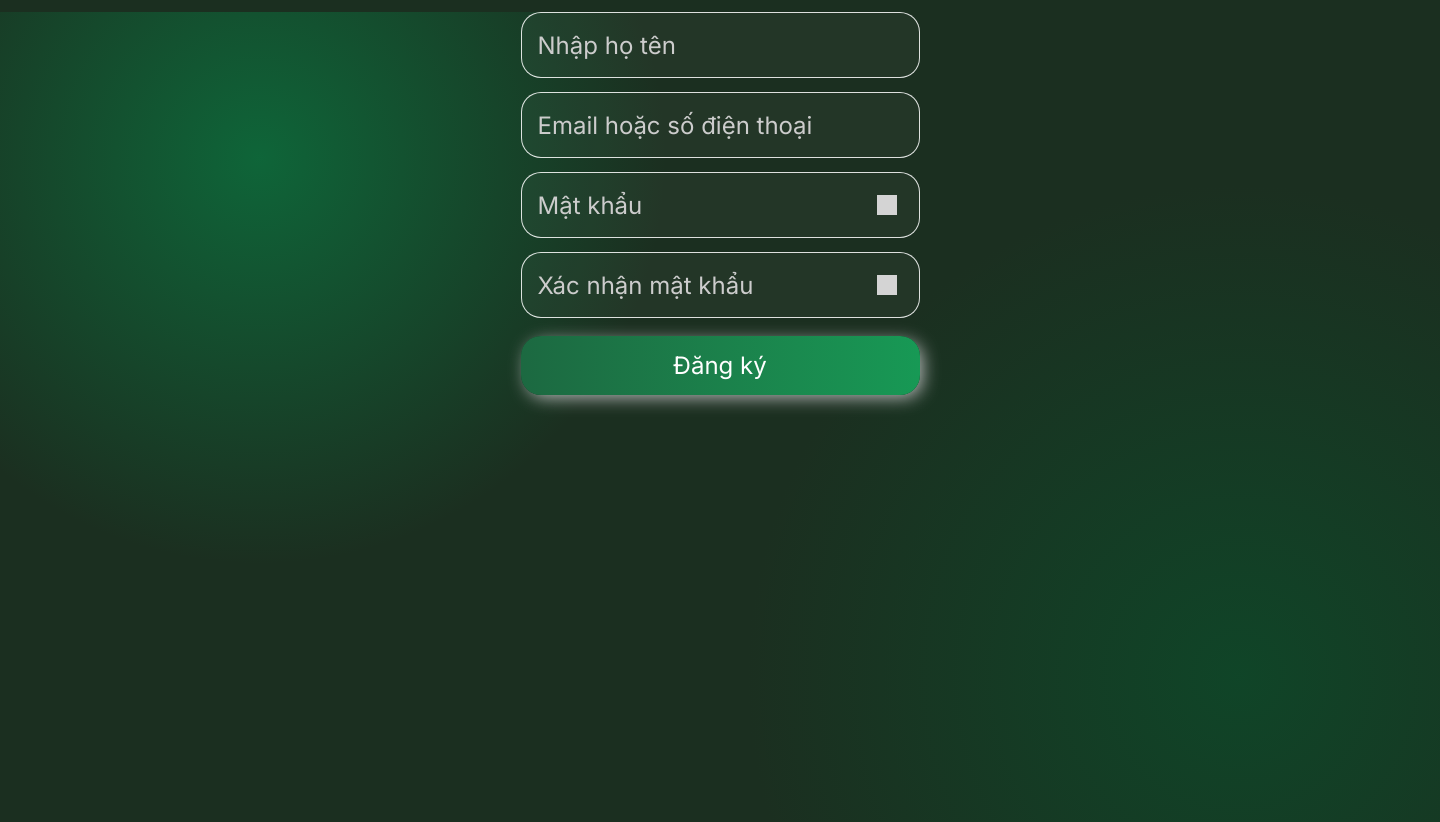
Test: RegisterForm › shows error when passwords don't match
Type "Nguyen Van A" into the field with placeholder "Nhập họ tên" at coordinates (720, 45), box [538,13,902,77]
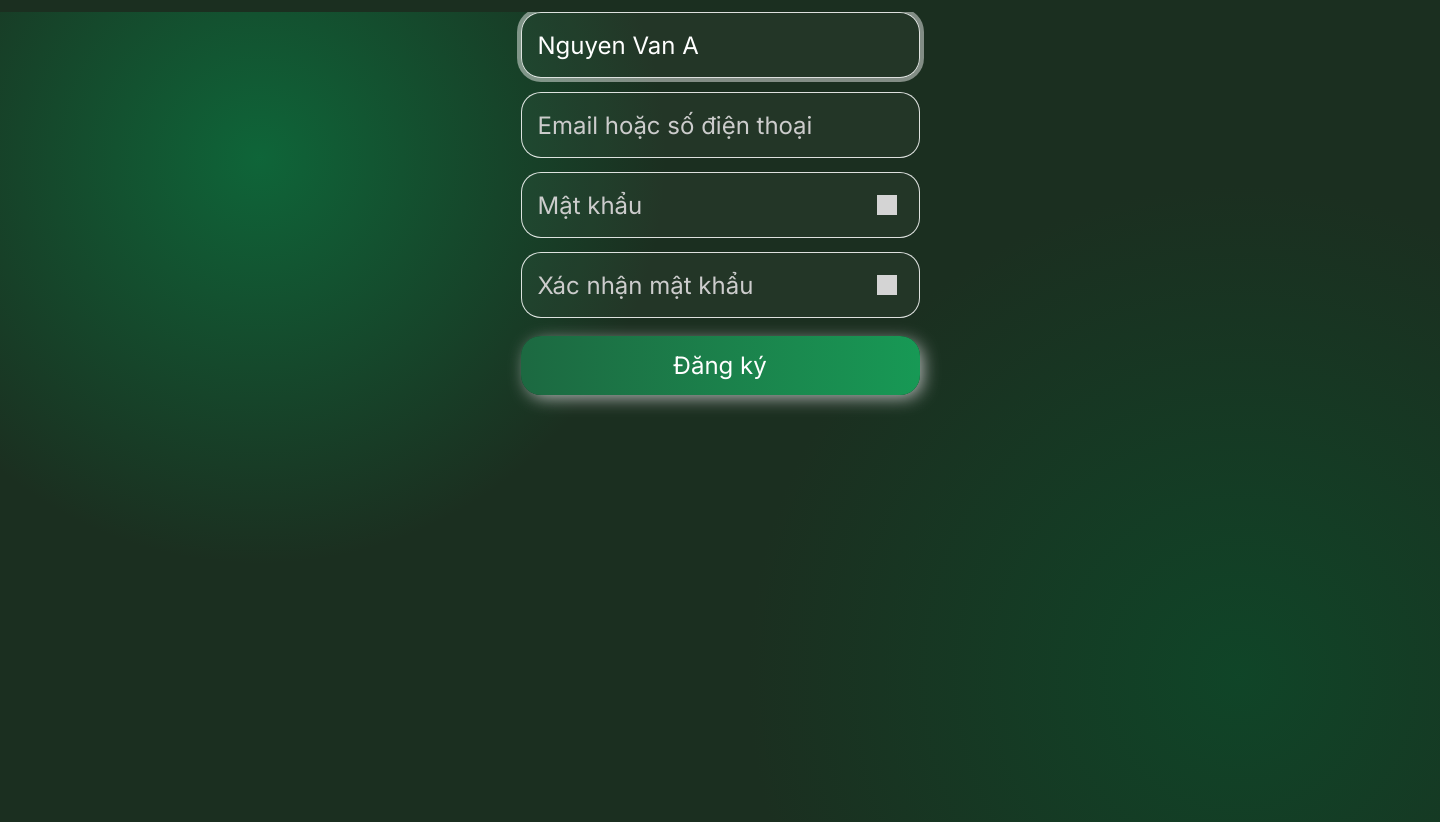
Type "test@example.com" into the field with placeholder "Email hoặc số điện thoại" at coordinates (720, 125), box [538,93,902,157]
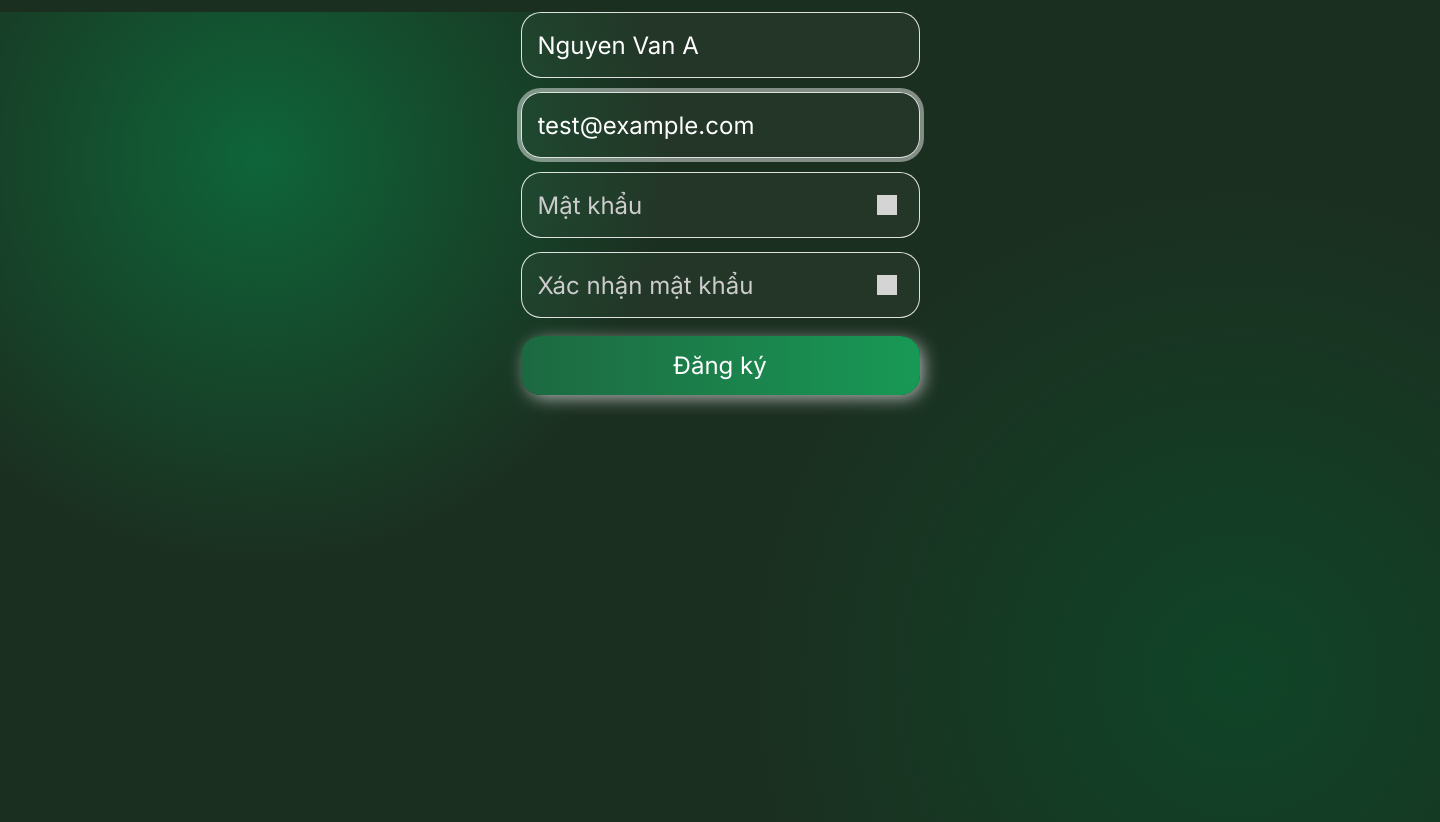
Type "password123" into the password field with placeholder "Mật khẩu" at coordinates (698, 205), box [538,173,858,237]
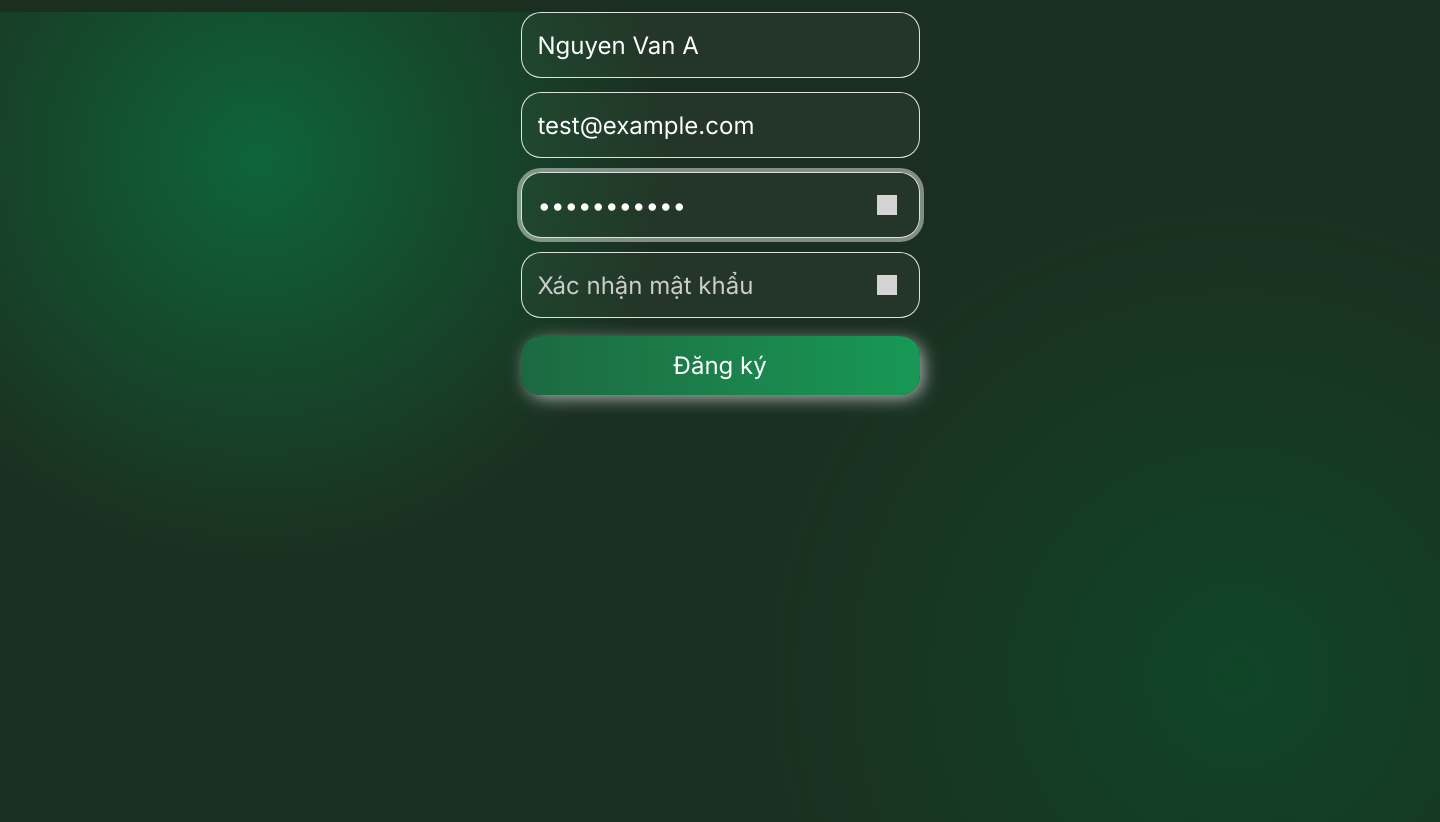
Type "different123" into the password field with placeholder "Xác nhận mật khẩu" at coordinates (698, 285), box [538,253,858,317]
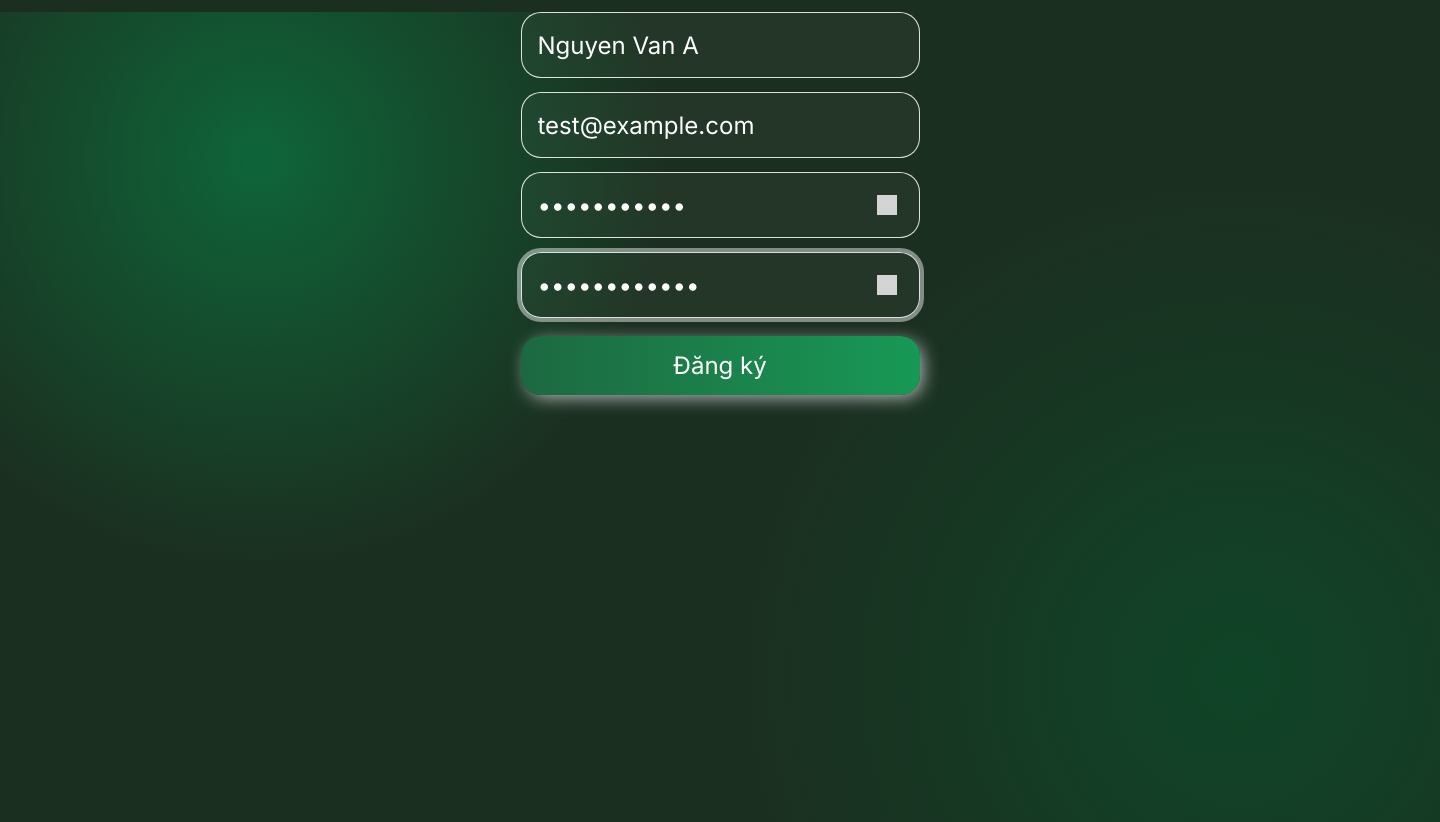
Click the button "Đăng ký" at coordinates (720, 366), box [520,336,920,395]
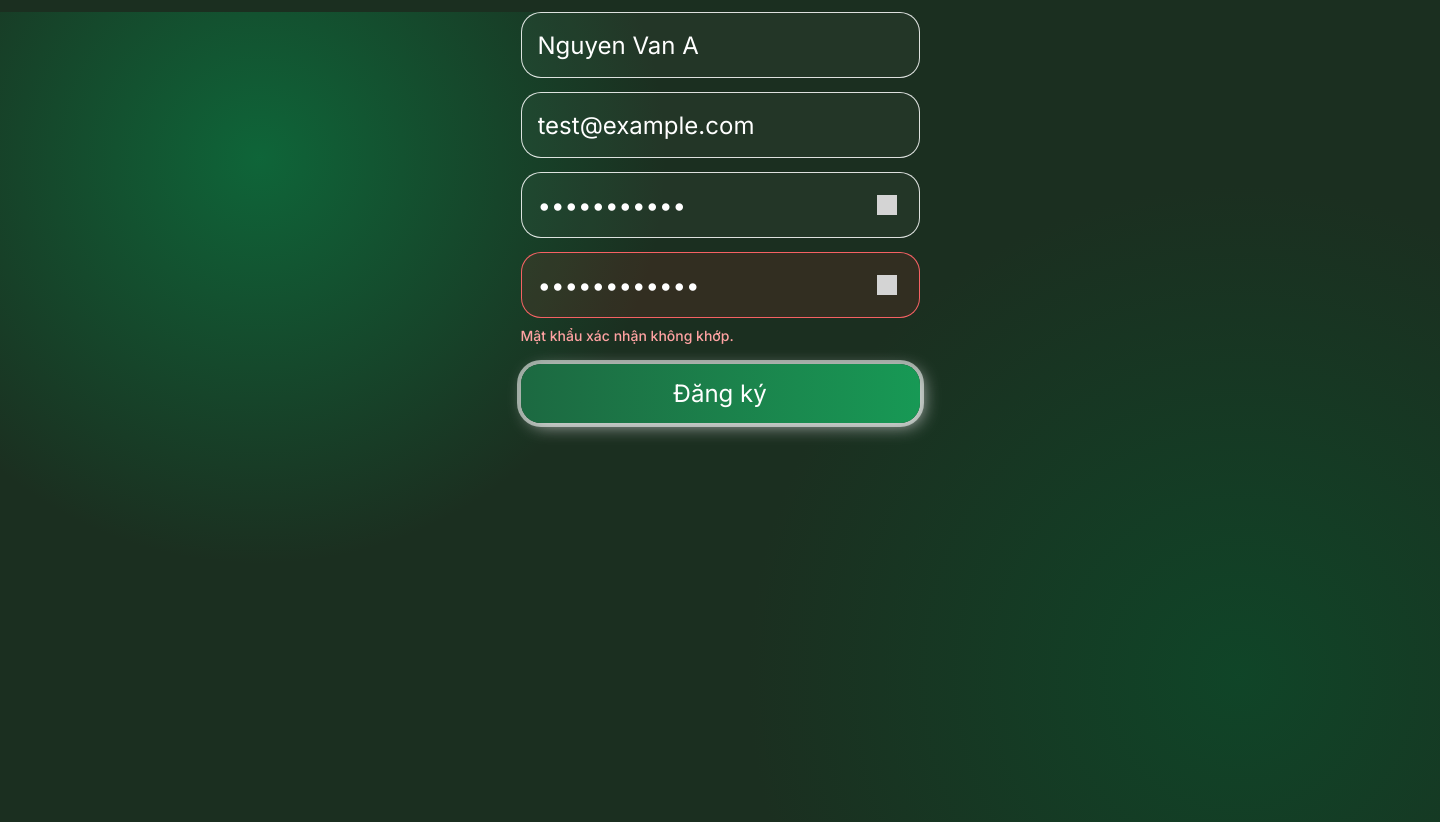
expect the text "Mật khẩu xác nhận không khớp." is shown: met, box [520,327,734,344]
